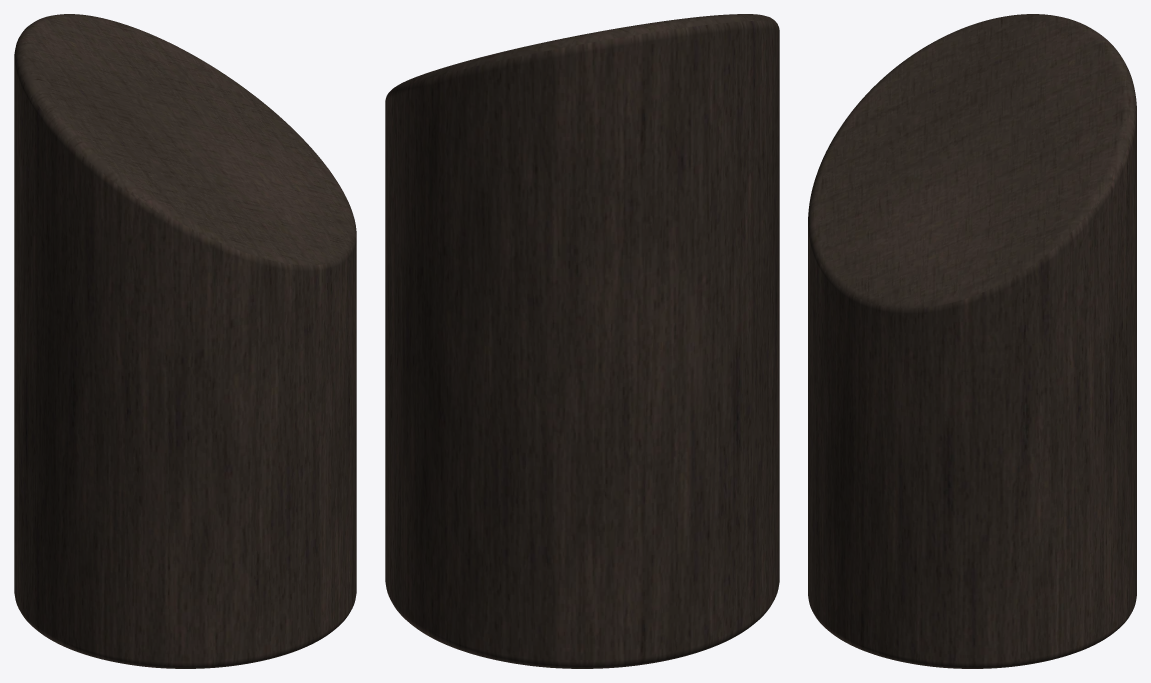
File: bishop-black.glb
3 renders of one model, left to right at view 1: azimuth 30°, elevation 25°; view 2: azimuth 150°, elevation 25°; view 3: azimuth 270°, elevation 25°, orthographic. The views are drawn at different scales.
Parts seen in each view (by area): view 1: Cylindra_Střelec_černý; view 2: Cylindra_Střelec_černý; view 3: Cylindra_Střelec_černý.
Part boxes in pixels (x1=…): Cylindra_Střelec_černý: x1=14, y1=14, x2=356, y2=668; Cylindra_Střelec_černý: x1=385, y1=14, x2=779, y2=668; Cylindra_Střelec_černý: x1=808, y1=14, x2=1136, y2=668.
Bounding box in the file's own units: 0.4988 × 0.89 × 0.4988.
2 materials, 2 textured.
